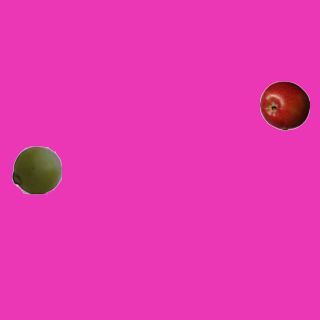Apple Braeburn: (259, 80, 309, 130)
Grape White 4: (11, 144, 61, 194)
